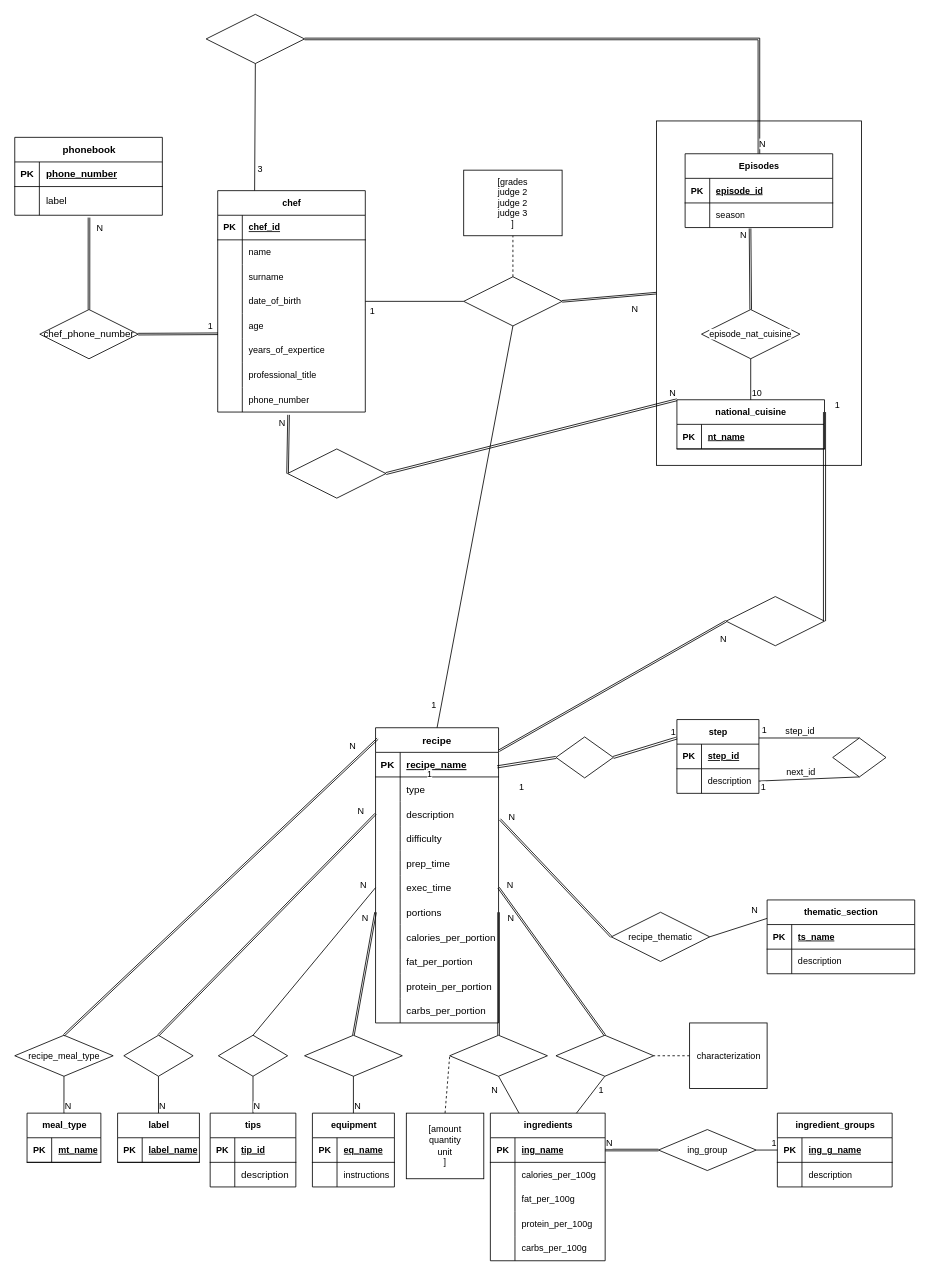
Some shapes in this 929 by 1275 pixel diagram are drawn without their labels. Here are the shapes that lost their labels. From the top down, the centre of each, then its label:
(255,39): Judge
(512,301): Cooks
(336,473): specialises
(775,621): rec_nationalcuisine
(584,757): first_step
(859,757): next_step
(158,1055): recipe_label
(253,1055): recipe_tips
(353,1055): recipe_equipment
(498,1055): ingred_used
(604,1055): basic_ingred
